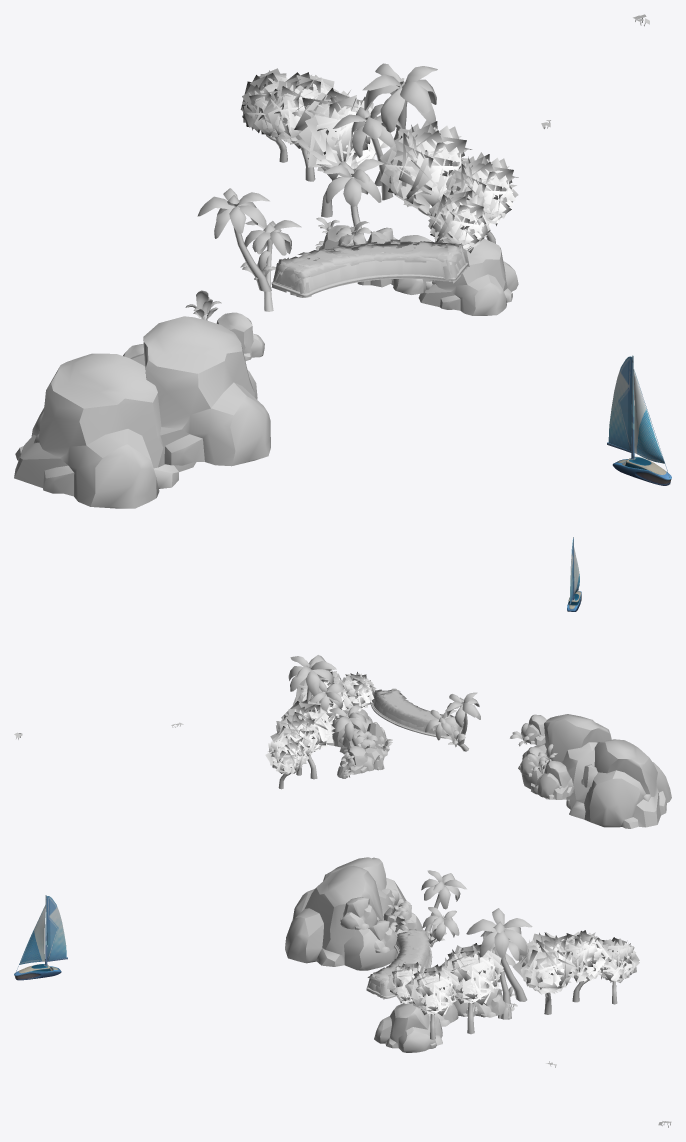
File: pref_Area_Blue_Base_Small_beta_01_lv3.fbx
The picture shows the model from 3 angles, top to bottom: view 1: azimuth 30°, elevation 25°; view 2: azimuth 150°, elevation 25°; view 3: azimuth 270°, elevation 25°; orthographic projection. The views are drawn at different scales.
Parts seen in each view (by area): view 1: sm_beach_techqiutree02_lv3 (×6), pref_sm_beach_techrock01_lv3 (4), pref_sm_beach_techrock01_lv3 (3), pref_sm_beach_techvegetation04_lv3, pref_sm_beach_techptree02b_lv3 (×2), pref_sm_beach_sailboat02_lv3, pref_sm_beach_techrock01_lv3 (8), pref_sm_beach_techptree02b_lv3 (3), pref_sm_beach_techptree02b_lv3 (1), pref_sm_beach_techptree02b_lv3 (2), pref_sm_beach_techrock01_lv3 (1), sm_beach_techborn08_mirror02a_lv3 (+1 smaller); view 2: pref_sm_beach_techrock01_lv3 (4), sm_beach_techqiutree02_lv3 (×5), pref_sm_beach_techrock01_lv3 (3), pref_sm_beach_techptree02b_lv3 (×2), pref_sm_beach_techvegetation04_lv3, pref_sm_beach_techrock01_lv3 (10), pref_sm_beach_techptree02b_lv3 (3), pref_sm_beach_techptree02b_lv3 (1), pref_sm_beach_sailboat02_lv3, pref_sm_beach_techrock01_lv3 (2), pref_sm_beach_techptree02b_lv3 (2), pref_sm_beach_techrock01_lv3 (1); view 3: sm_beach_techqiutree02_lv3 (×6), pref_sm_beach_techrock01_lv3 (3), pref_sm_beach_sailboat02_lv3, pref_sm_beach_techptree02b_lv3 (×2), pref_sm_beach_techrock01_lv3 (8), pref_sm_beach_techvegetation04_lv3, pref_sm_beach_techrock01_lv3 (4), pref_sm_beach_techptree02b_lv3 (3), pref_sm_beach_techrock01_lv3 (1), pref_sm_beach_techptree02b_lv3 (2), pref_sm_beach_techrock01_lv3 (5), pref_sm_beach_techrock01_lv3 (2) (+1 smaller).
Part boxes in pixels (x1,y1,x2,y2): sm_beach_techqiutree02_lv3 (×6): (240, 68, 518, 253); pref_sm_beach_techrock01_lv3 (4): (14, 353, 195, 508); pref_sm_beach_techrock01_lv3 (3): (130, 316, 270, 466); pref_sm_beach_techvegetation04_lv3: (271, 239, 469, 297); pref_sm_beach_techptree02b_lv3 (×2): (333, 63, 437, 200); pref_sm_beach_sailboat02_lv3: (607, 355, 671, 485); pref_sm_beach_techrock01_lv3 (8): (418, 238, 518, 315); pref_sm_beach_techptree02b_lv3 (3): (197, 188, 271, 291); pref_sm_beach_techptree02b_lv3 (1): (323, 159, 383, 243); pref_sm_beach_techptree02b_lv3 (2): (244, 220, 301, 311); pref_sm_beach_techrock01_lv3 (1): (216, 312, 264, 361); sm_beach_techborn08_mirror02a_lv3: (271, 263, 468, 297); pref_sm_beach_techrock01_lv3 (4): (566, 739, 671, 828); sm_beach_techqiutree02_lv3 (×5): (265, 672, 376, 774); pref_sm_beach_techrock01_lv3 (3): (521, 714, 611, 799); pref_sm_beach_techptree02b_lv3 (×2): (288, 655, 343, 711); pref_sm_beach_techvegetation04_lv3: (372, 688, 462, 738); pref_sm_beach_techrock01_lv3 (10): (533, 761, 573, 799); pref_sm_beach_techptree02b_lv3 (3): (445, 692, 480, 744); pref_sm_beach_techptree02b_lv3 (1): (329, 705, 366, 746); pref_sm_beach_sailboat02_lv3: (567, 537, 581, 611); pref_sm_beach_techrock01_lv3 (2): (340, 746, 374, 774); pref_sm_beach_techptree02b_lv3 (2): (425, 710, 468, 751); pref_sm_beach_techrock01_lv3 (1): (525, 714, 546, 745); sm_beach_techqiutree02_lv3 (×6): (387, 930, 639, 1015); pref_sm_beach_techrock01_lv3 (3): (285, 865, 397, 970); pref_sm_beach_sailboat02_lv3: (14, 895, 67, 980); pref_sm_beach_techptree02b_lv3 (×2): (466, 908, 532, 1003); pref_sm_beach_techrock01_lv3 (8): (374, 1003, 442, 1052); pref_sm_beach_techvegetation04_lv3: (366, 928, 430, 999); pref_sm_beach_techrock01_lv3 (4): (292, 857, 406, 920); pref_sm_beach_techptree02b_lv3 (3): (421, 870, 466, 938); pref_sm_beach_techrock01_lv3 (1): (340, 897, 379, 929); pref_sm_beach_techptree02b_lv3 (2): (422, 907, 459, 943); pref_sm_beach_techrock01_lv3 (5): (368, 920, 396, 952); pref_sm_beach_techrock01_lv3 (2): (475, 988, 505, 1017).
Bounding box in the file's own units: 53.9 × 13.68 × 53.08.
